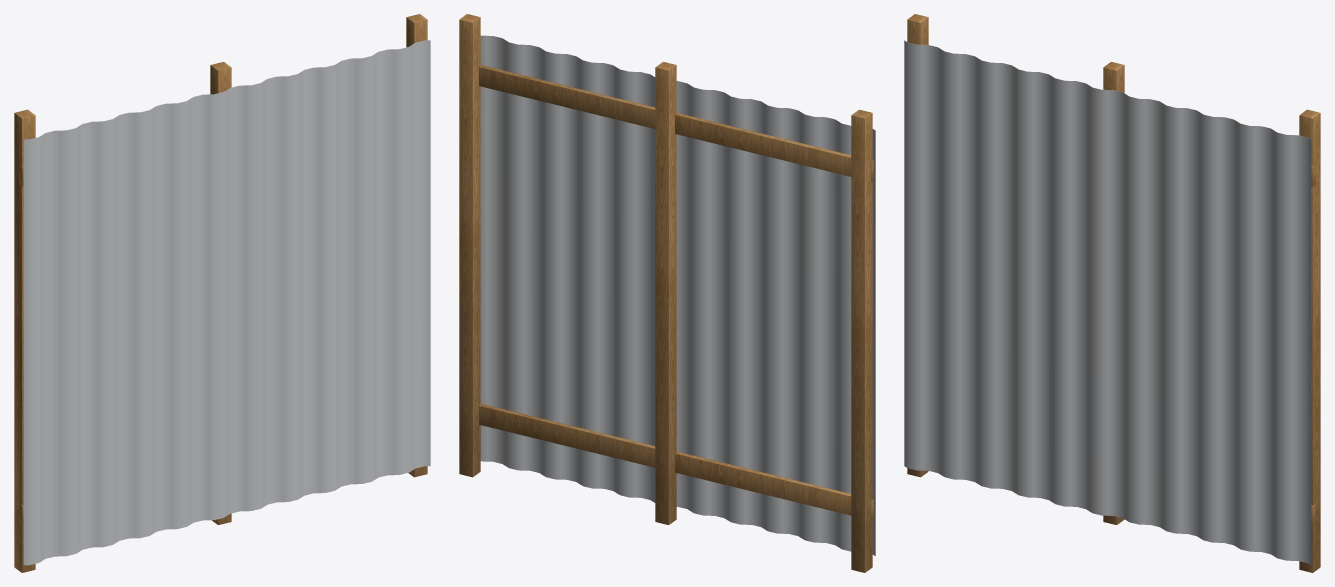
The model's file is SER-TAP-002.glb.
3 views of the same model, side by side, from view 1: azimuth 30°, elevation 25°; view 2: azimuth 150°, elevation 25°; view 3: azimuth 330°, elevation 25° (orthographic).
Visible parts, largest first — view 1: SER-TAP-002_telha, SER-TAP-002_pontalete0, SER-TAP-002_pontalete2, SER-TAP-002_pontalete1; view 2: SER-TAP-002_telha, SER-TAP-002_pontalete0, SER-TAP-002_pontalete1, SER-TAP-002_pontalete2, SER-TAP-002_sarrafo0, SER-TAP-002_sarrafo1; view 3: SER-TAP-002_telha, SER-TAP-002_pontalete2, SER-TAP-002_pontalete0, SER-TAP-002_pontalete1.
Boxes of the visible parts, left/top/right/bottom form: SER-TAP-002_telha: left=23, top=40, right=430, bottom=565; SER-TAP-002_pontalete0: left=14, top=109, right=35, bottom=572; SER-TAP-002_pontalete2: left=406, top=14, right=427, bottom=477; SER-TAP-002_pontalete1: left=210, top=62, right=231, bottom=524; SER-TAP-002_telha: left=480, top=35, right=875, bottom=555; SER-TAP-002_pontalete0: left=851, top=109, right=872, bottom=572; SER-TAP-002_pontalete1: left=655, top=62, right=676, bottom=524; SER-TAP-002_pontalete2: left=459, top=14, right=480, bottom=477; SER-TAP-002_sarrafo0: left=479, top=403, right=873, bottom=520; SER-TAP-002_sarrafo1: left=479, top=65, right=873, bottom=181; SER-TAP-002_telha: left=904, top=40, right=1311, bottom=564; SER-TAP-002_pontalete2: left=1299, top=109, right=1320, bottom=572; SER-TAP-002_pontalete0: left=907, top=14, right=928, bottom=477; SER-TAP-002_pontalete1: left=1103, top=62, right=1124, bottom=524.
Size of the model in its own units: 2.2 by 2.35 by 0.1078.
2 materials, 1 textured.
